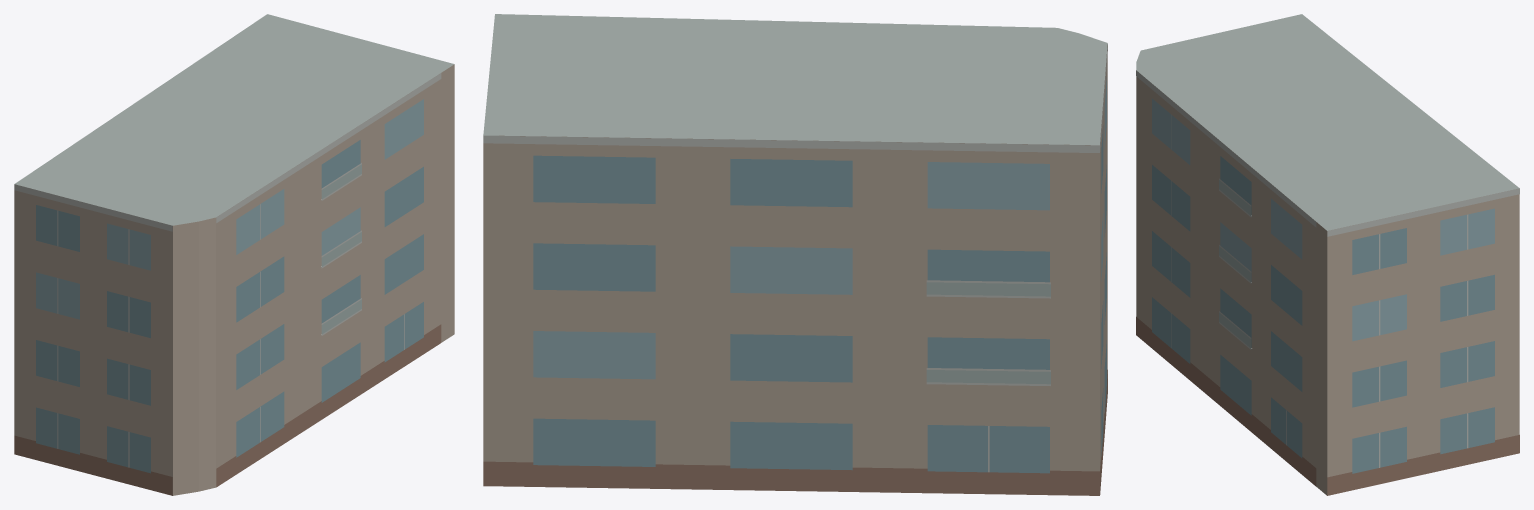
Rendered from survey-upis-32724963.glb.
3 renders of one model, left to right at view 1: azimuth 30°, elevation 25°; view 2: azimuth 150°, elevation 25°; view 3: azimuth 270°, elevation 25°, orthographic. The views are drawn at different scales.
Parts seen in each view (by area): view 1: survey-upis-32724963.tmp; view 2: survey-upis-32724963.tmp; view 3: survey-upis-32724963.tmp.
Part boxes in pixels (x1,y1,x2,y2): survey-upis-32724963.tmp: [14, 14, 454, 495]; survey-upis-32724963.tmp: [483, 14, 1107, 495]; survey-upis-32724963.tmp: [1136, 14, 1519, 495].
Bounding box in the file's own units: 19.06 × 10.85 × 14.25.
